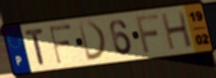6: (108, 19, 134, 57)
D: (77, 20, 109, 63)
F: (134, 12, 161, 55), (48, 23, 73, 66)
H: (159, 10, 194, 52)
T: (24, 27, 47, 67)
